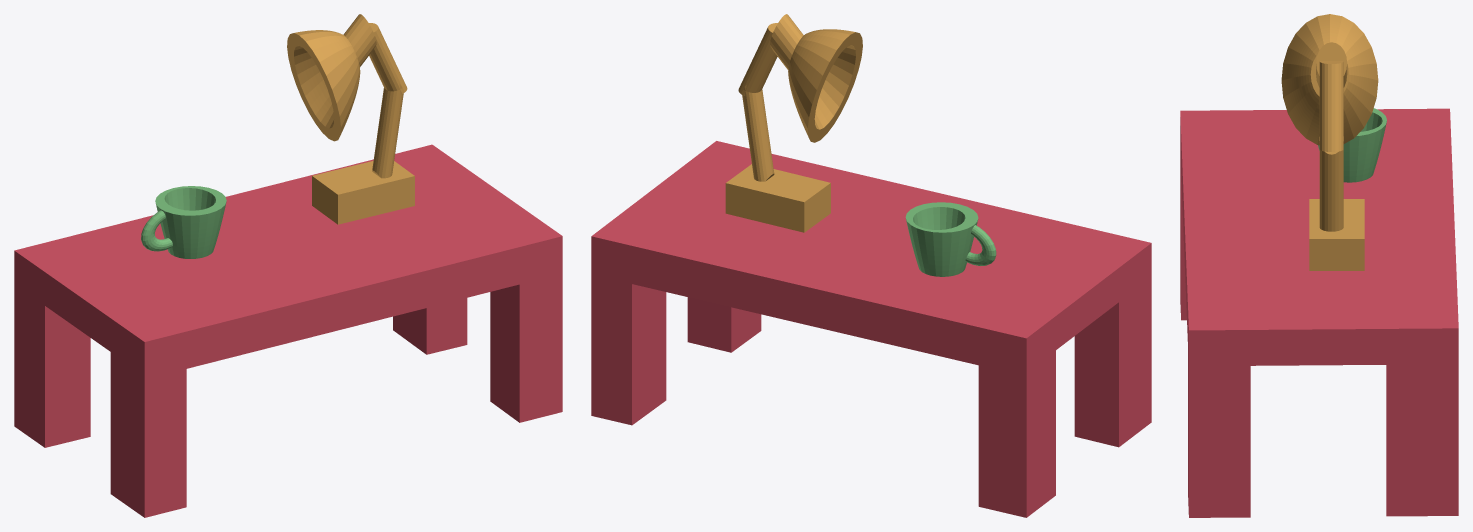
The model's file is table model.glb.
The picture shows the model from 3 angles, left to right: view 1: azimuth 30°, elevation 25°; view 2: azimuth 150°, elevation 25°; view 3: azimuth 270°, elevation 25°; orthographic projection. The views are drawn at different scales.
Visible parts, largest first — view 1: Mesh_Mesh_head_geo.001_lambert2SG.001; view 2: Mesh_Mesh_head_geo.001_lambert2SG.001; view 3: Mesh_Mesh_head_geo.001_lambert2SG.001.
Part boxes in pixels (bbox=[...]): Mesh_Mesh_head_geo.001_lambert2SG.001: bbox=[14, 14, 562, 517]; Mesh_Mesh_head_geo.001_lambert2SG.001: bbox=[591, 14, 1151, 517]; Mesh_Mesh_head_geo.001_lambert2SG.001: bbox=[1180, 14, 1458, 517].
Bounding box in the file's own units: 119 × 102 × 63.25.
